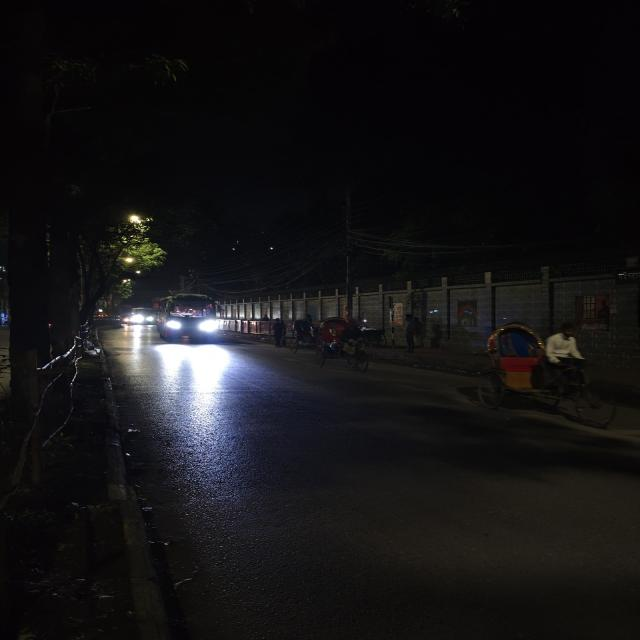bus: (154, 291, 222, 343), (130, 307, 154, 325)
pedestrian: (400, 311, 428, 353), (268, 318, 288, 348), (276, 320, 293, 348)
rickshaw: (471, 319, 618, 429), (309, 314, 378, 372)
